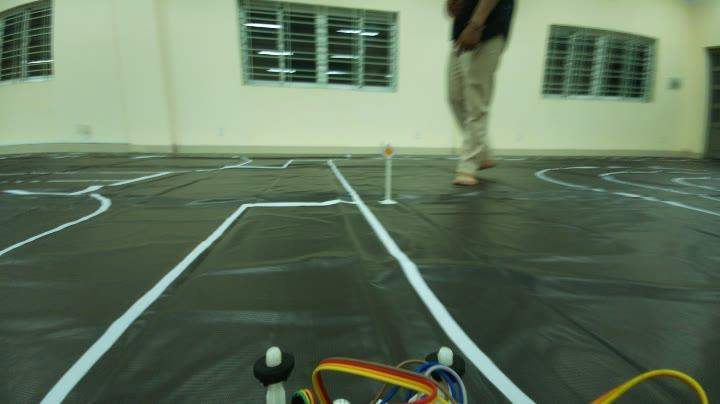priority: (377, 141, 394, 161)
